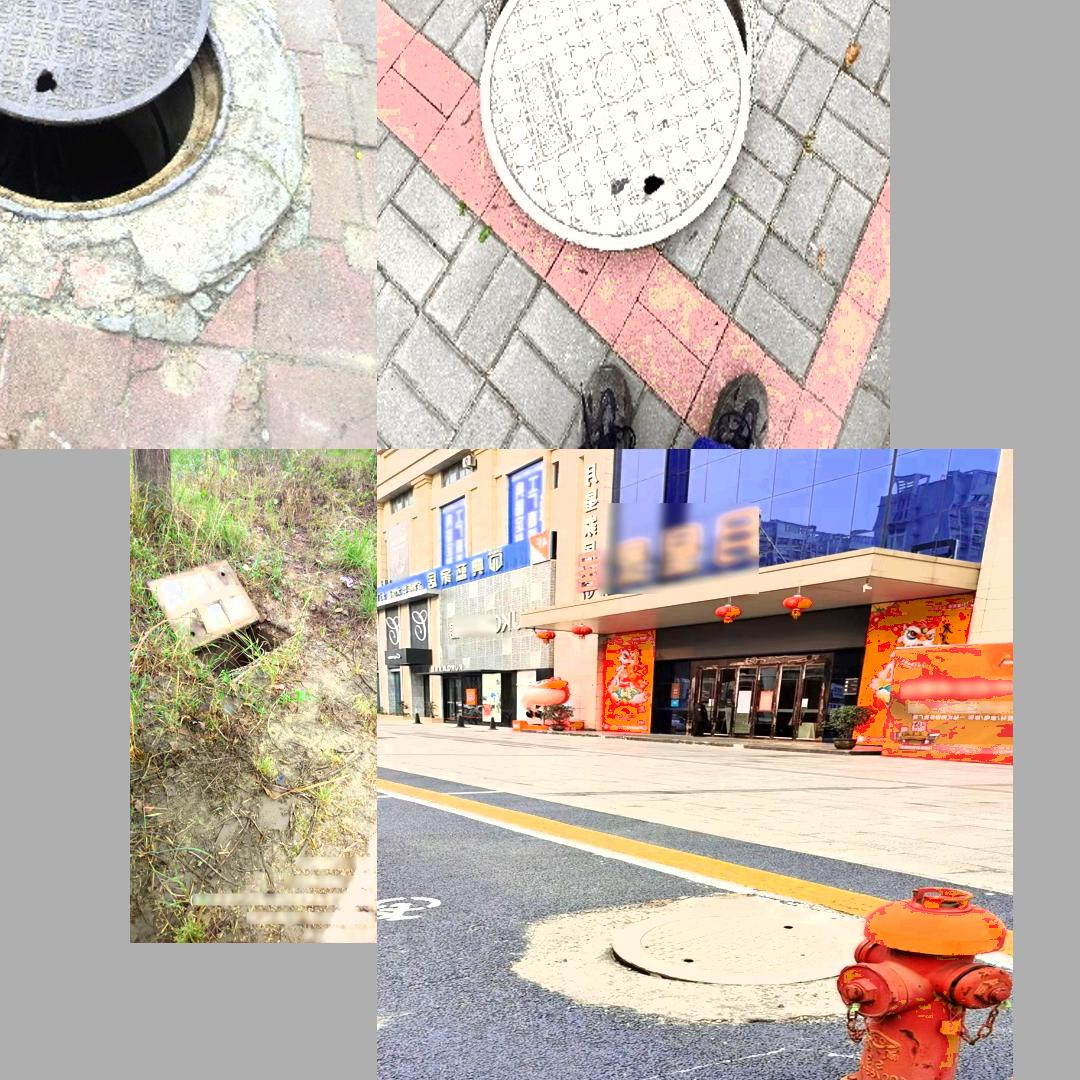uncovered: (479, 0, 764, 248), (0, 0, 232, 223), (584, 876, 870, 1003), (145, 560, 296, 681)
